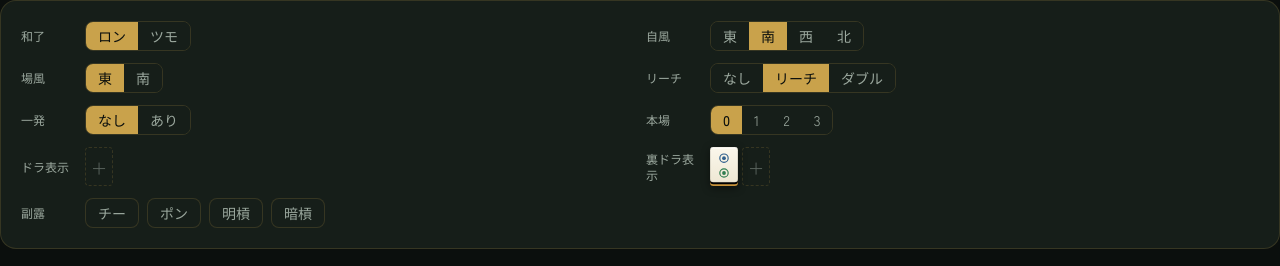
Scenario: ContextForm › リーチ時は裏ドラ表示牌の削除もできる
What coordinates should you click on to do the following:
click the button "+" next to "裏ドラ表示"
I would click on:
 (756, 166)
Its box is [742,147,770,186].
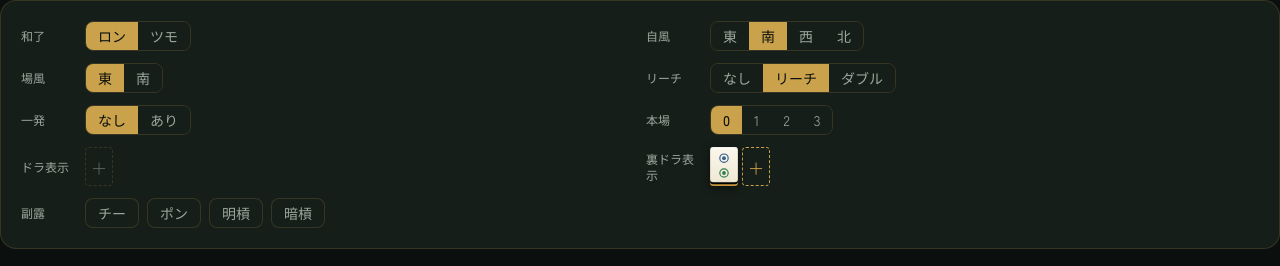
Now the button "+" next to "裏ドラ表示" is pressed
What coordinates should you click on to do the following:
click the button "+" next to "裏ドラ表示"
I would click on:
 (756, 166)
Its box is [742,147,770,186].
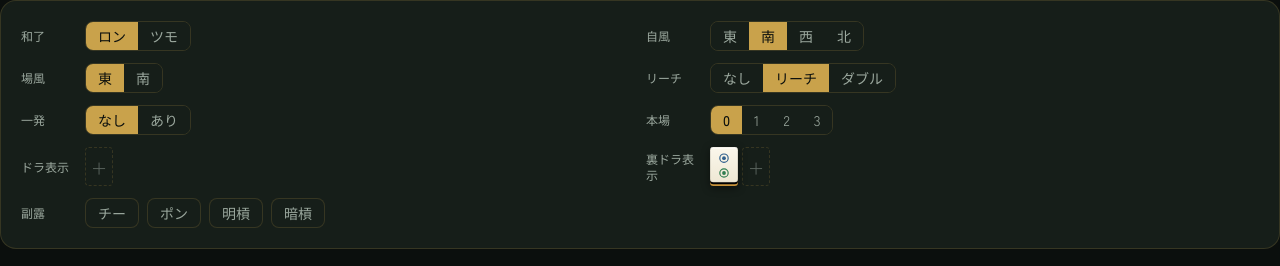
Now the button "+" next to "裏ドラ表示" is not pressed, box [742,147,770,186]
What coordinates should you click on to do the following:
click the button named "裏ドラ表示のp2を削除"
I would click on:
 (724, 166)
Its box is [710,147,738,186].
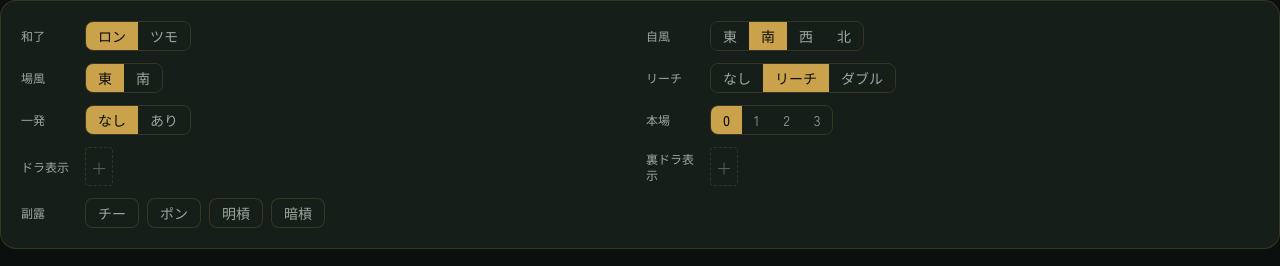
Now the button "裏ドラ表示のp2を削除" is gone
